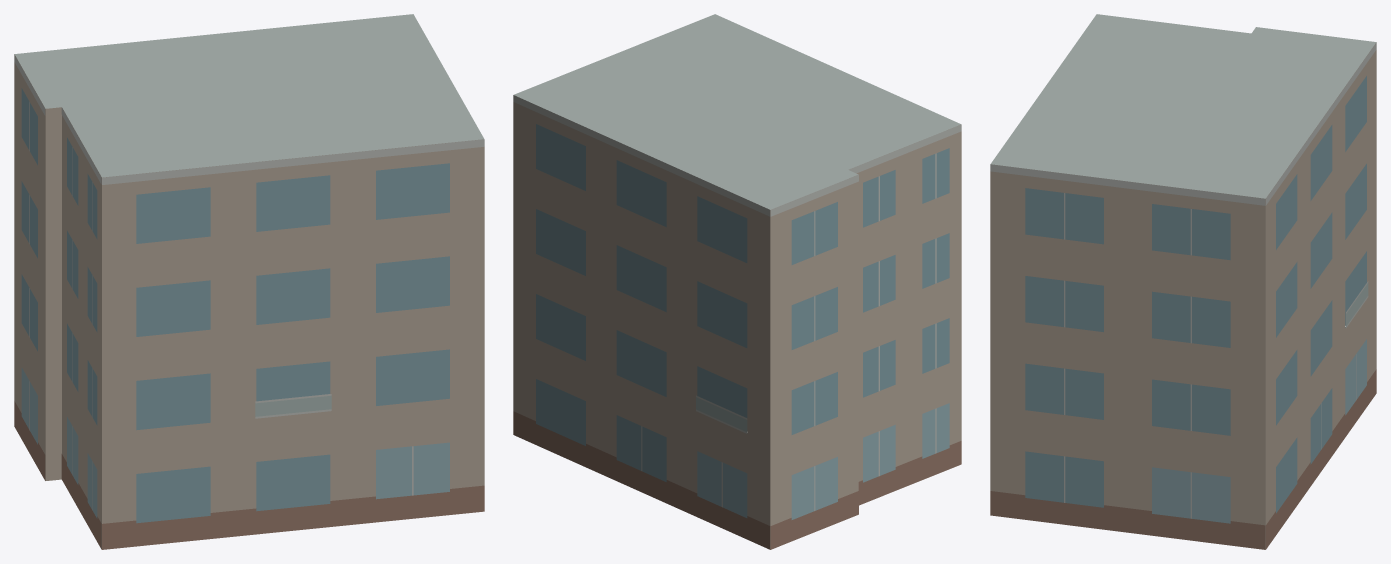
Rendered from survey-upis-33013431.glb.
The picture shows the model from 3 angles, left to right: view 1: azimuth 30°, elevation 25°; view 2: azimuth 150°, elevation 25°; view 3: azimuth 270°, elevation 25°; orthographic projection. The views are drawn at different scales.
Visible parts, largest first — view 1: survey-upis-33013431.tmp; view 2: survey-upis-33013431.tmp; view 3: survey-upis-33013431.tmp.
Part boxes in pixels (x1,y1,x2,y2): survey-upis-33013431.tmp: (14, 14, 484, 549); survey-upis-33013431.tmp: (513, 14, 961, 549); survey-upis-33013431.tmp: (990, 14, 1376, 549).
Bounding box in the file's own units: 13.43 × 11.9 × 11.87.
